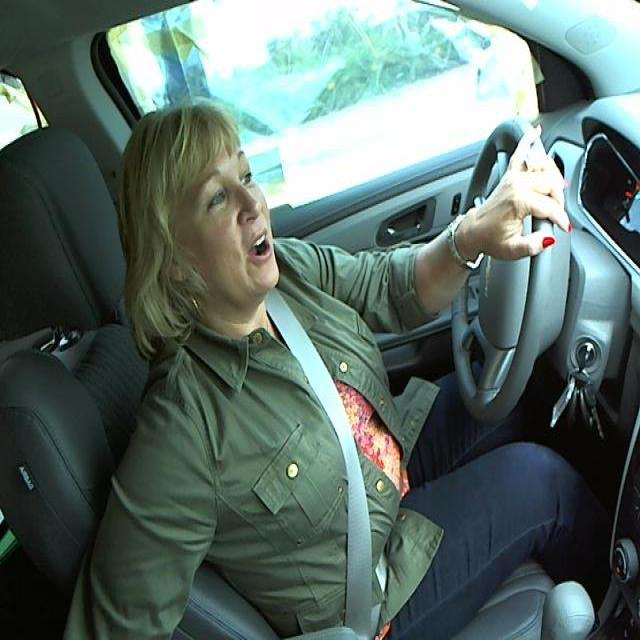seatbelt: (265, 316, 394, 633)
